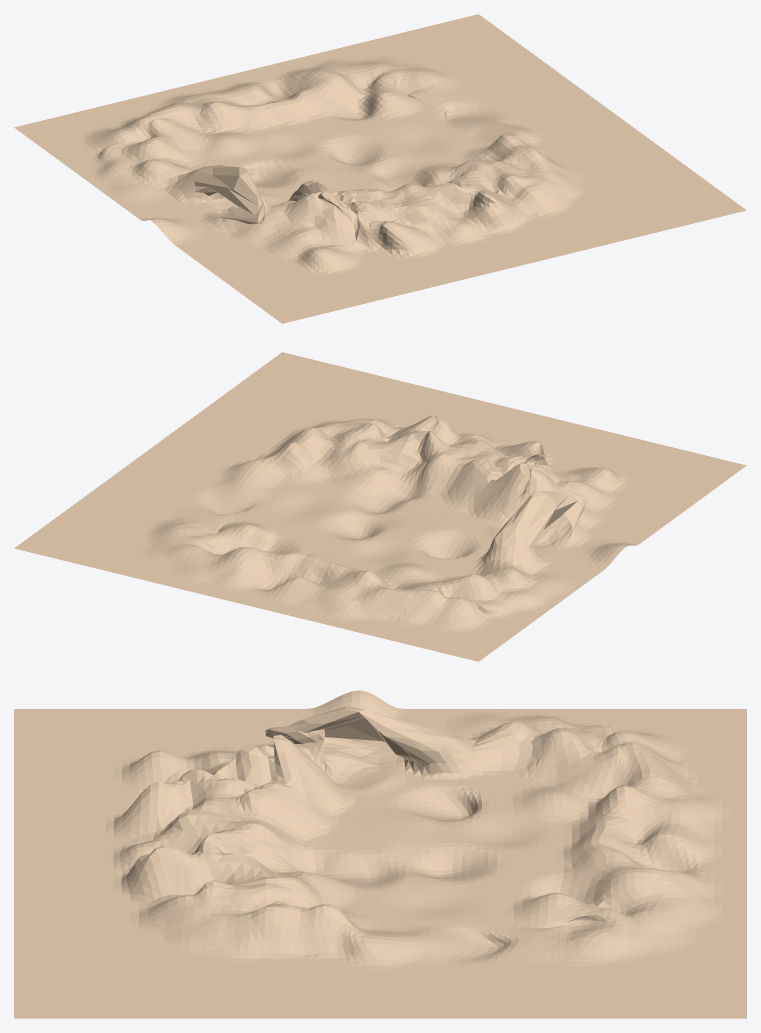
Rendered from Mapa.dae.
The picture shows the model from 3 angles, top to bottom: view 1: azimuth 30°, elevation 25°; view 2: azimuth 150°, elevation 25°; view 3: azimuth 270°, elevation 25°; orthographic projection. The views are drawn at different scales.
Visible parts, largest first — view 1: Plano; view 2: Plano; view 3: Plano.
Boxes of the visible parts, left/top/right/bottom form: Plano: left=14, top=14, right=746, bottom=323; Plano: left=14, top=352, right=746, bottom=661; Plano: left=14, top=690, right=746, bottom=1018.
Bounding box in the file's own units: 15.38 × 15.24 × 1.7.
